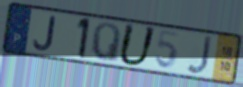1: (75, 17, 93, 61)
5: (153, 28, 181, 71)
J: (185, 35, 214, 76), (32, 15, 57, 52)
Q: (90, 22, 122, 65)
U: (116, 21, 159, 68)
